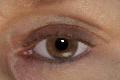eye: (47, 36, 77, 58)
